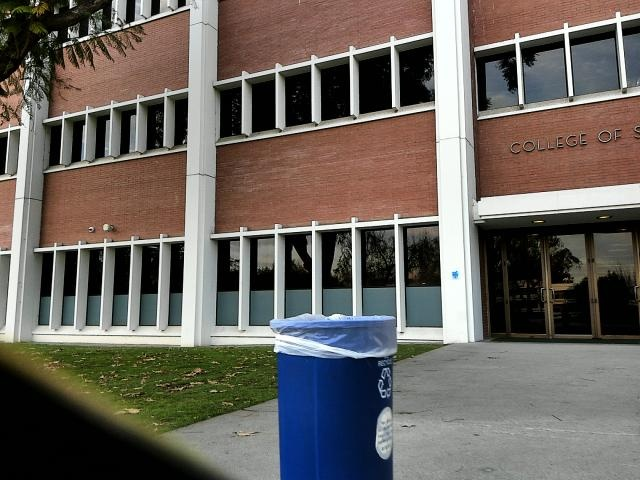trashcan_open: (256, 301, 406, 480)
